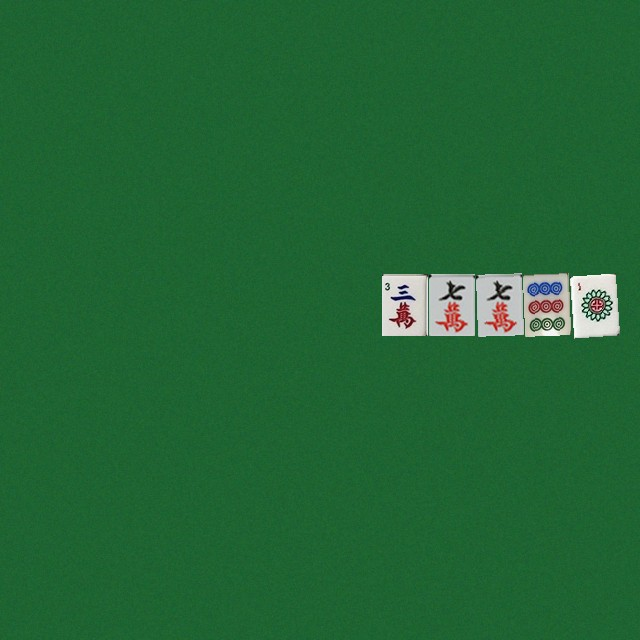tile: (381, 273, 427, 335), (428, 273, 474, 335), (475, 273, 521, 335), (522, 273, 568, 335), (569, 273, 615, 335)
